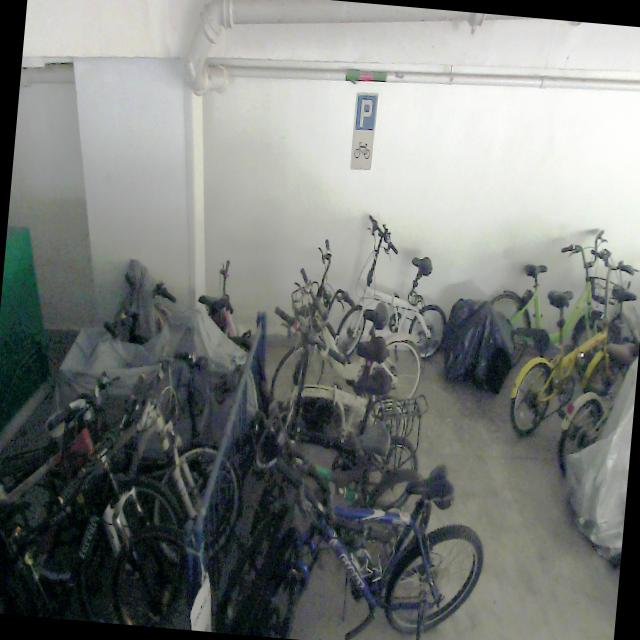bike: (0, 330, 249, 606), (215, 422, 494, 640), (0, 356, 200, 629), (229, 382, 441, 608), (269, 233, 433, 419), (506, 240, 640, 444), (259, 298, 425, 462), (479, 219, 616, 385), (332, 212, 455, 372)
